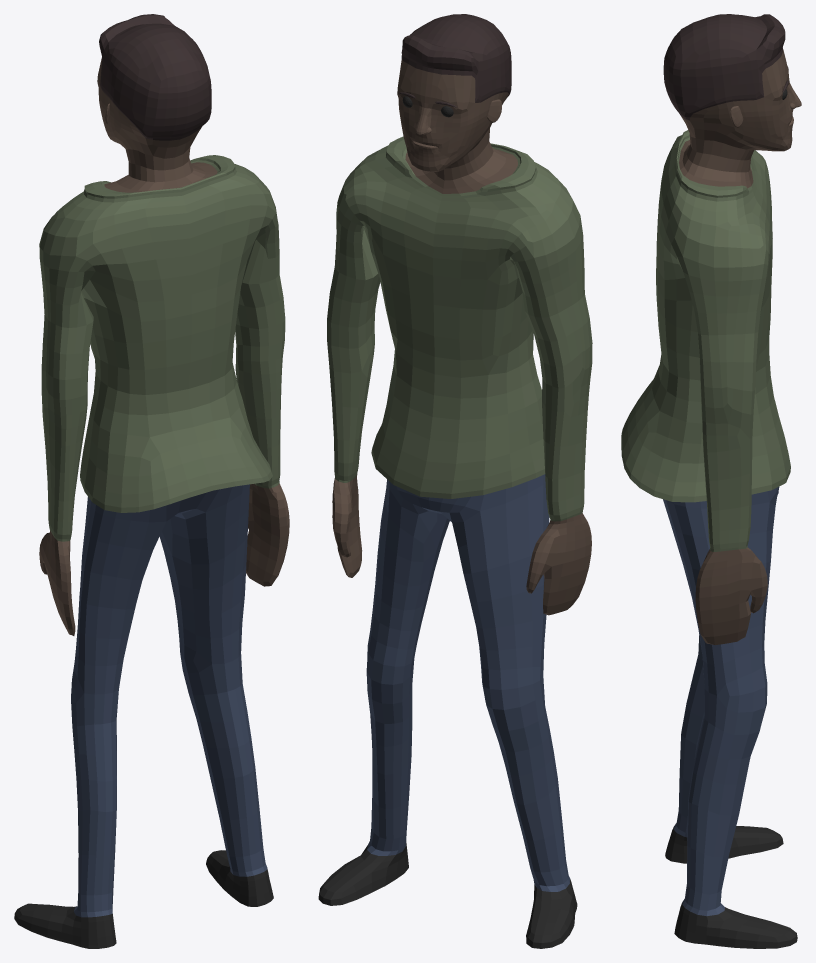
The model's file is Smooth_Male_LongSleeve.glb.
3 views of the same model, side by side, from view 1: azimuth 30°, elevation 25°; view 2: azimuth 150°, elevation 25°; view 3: azimuth 270°, elevation 25° (orthographic).
Parts seen in each view (by area): view 1: Smooth_Male_LongSleeve; view 2: Smooth_Male_LongSleeve; view 3: Smooth_Male_LongSleeve.
Part boxes in pixels (x1,y1,x2,y2): Smooth_Male_LongSleeve: (14,14,289,948); Smooth_Male_LongSleeve: (318,14,592,948); Smooth_Male_LongSleeve: (621,14,801,948).
Bounding box in the file's own units: 1.39 × 4.81 × 0.8978.
